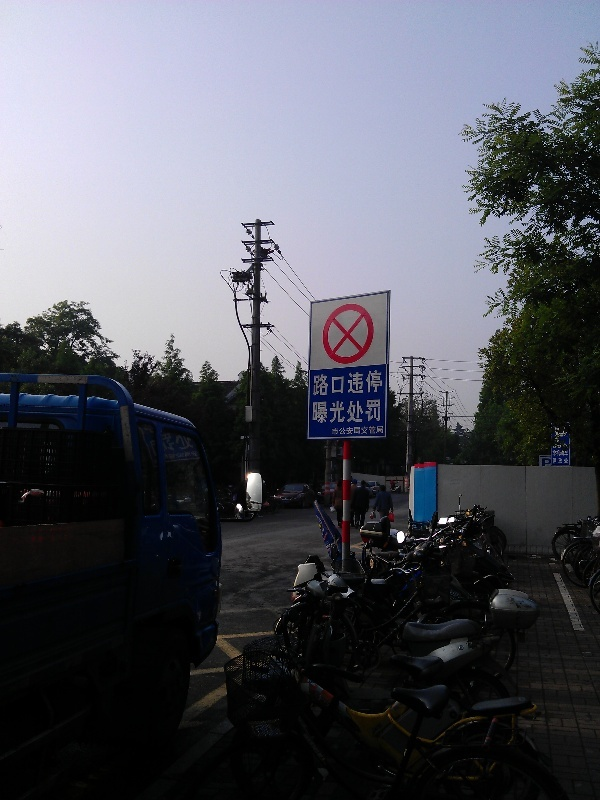text: (321, 370, 336, 397), (337, 370, 352, 397), (353, 370, 368, 397), (369, 370, 383, 397), (321, 399, 336, 424), (337, 399, 352, 424), (353, 399, 368, 424), (369, 399, 382, 424), (313, 399, 320, 424), (314, 370, 320, 397), (337, 426, 352, 436), (353, 426, 368, 436), (369, 426, 384, 436), (545, 458, 551, 467), (561, 450, 569, 456), (561, 458, 569, 464), (553, 450, 560, 456), (553, 458, 560, 464), (332, 426, 336, 436), (542, 458, 544, 467)
